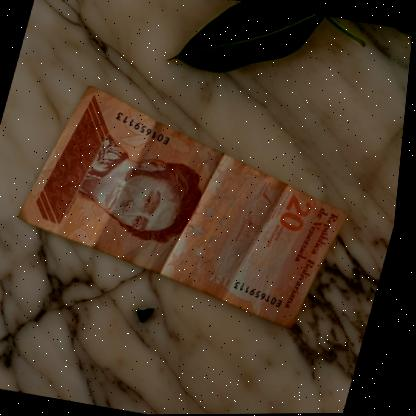vef_front: (6, 77, 382, 336)
